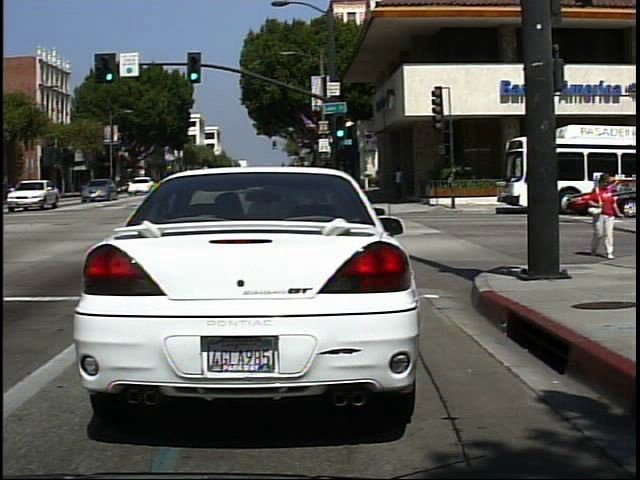person: (583, 170, 622, 261), (392, 166, 410, 203)
